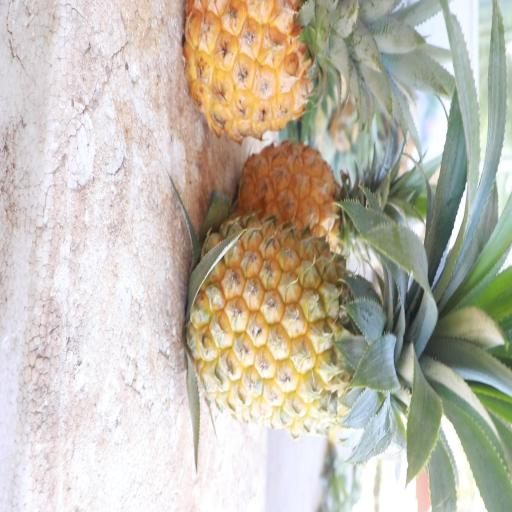Pineapple - v8 v1: (184, 198, 423, 447), (181, 0, 375, 148), (235, 132, 378, 262), (244, 98, 244, 99)
